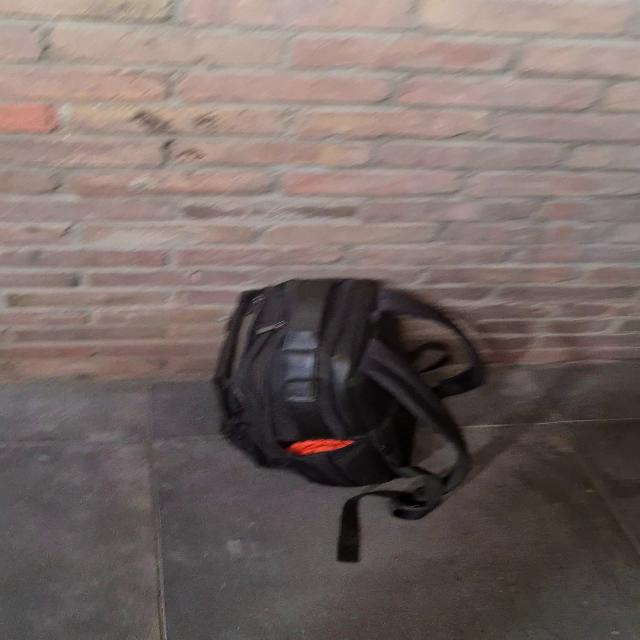backpack: (203, 266, 488, 512)
